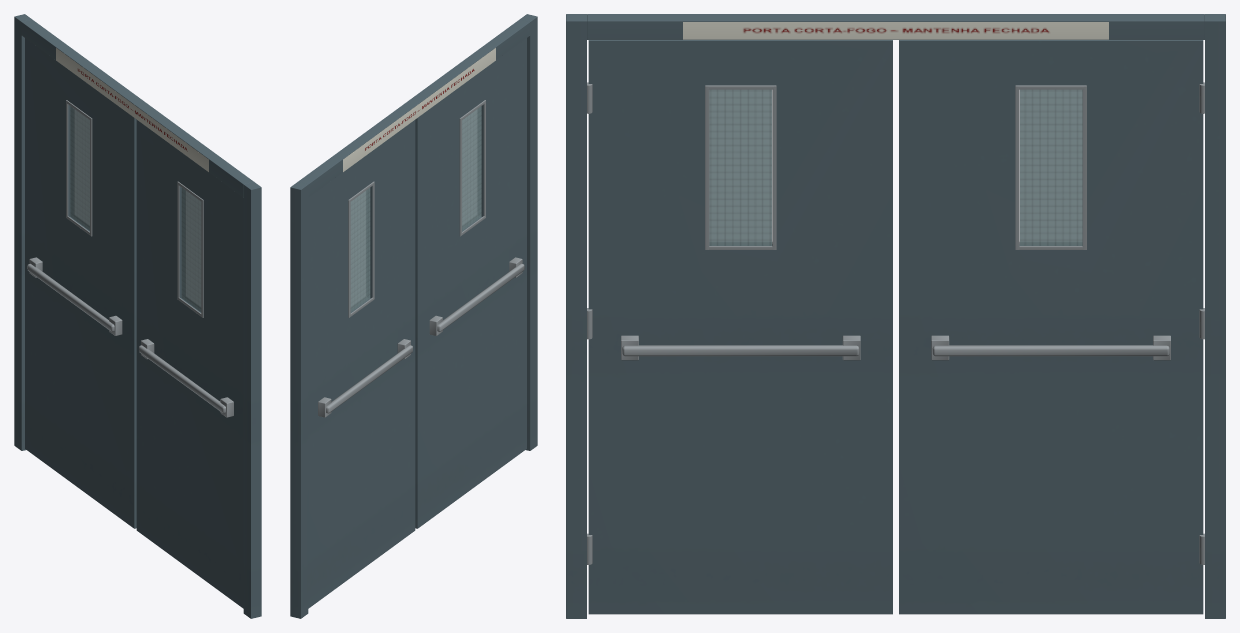
The model's file is porta_corta_fogo_realista.glb.
The picture shows the model from 3 angles, left to right: view 1: azimuth 30°, elevation 25°; view 2: azimuth 150°, elevation 25°; view 3: azimuth 270°, elevation 25°; orthographic projection. The views are drawn at different scales.
Parts seen in each view (by area): view 1: Folha_D, Folha_E, Batente; view 2: Folha_E, Folha_D, Batente; view 3: Folha_D, Folha_E, Batente.
Boxes of the visible parts, x1,y1,x2,y2 form: Folha_D: (25, 38, 136, 528); Folha_E: (136, 120, 243, 608); Batente: (14, 14, 261, 618); Folha_E: (415, 38, 526, 528); Folha_D: (308, 120, 415, 608); Batente: (290, 14, 537, 618); Folha_D: (899, 40, 1204, 614); Folha_E: (587, 40, 892, 614); Batente: (566, 14, 1225, 618).
Size of the model in its own units: 0.14 by 2.2 by 2.2.
Materials: 2 (2 with a texture image).
